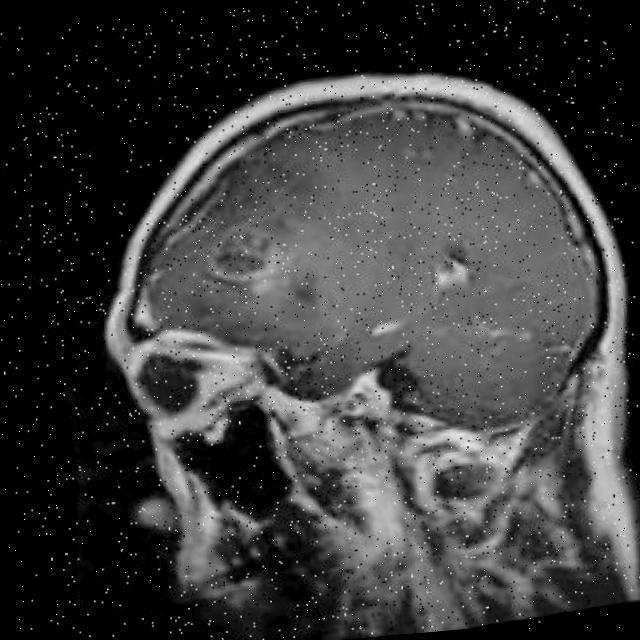LMCI: (178, 184, 290, 306)
